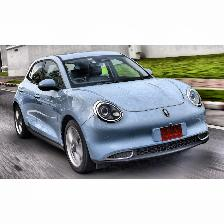EV: (13, 51, 212, 176)
